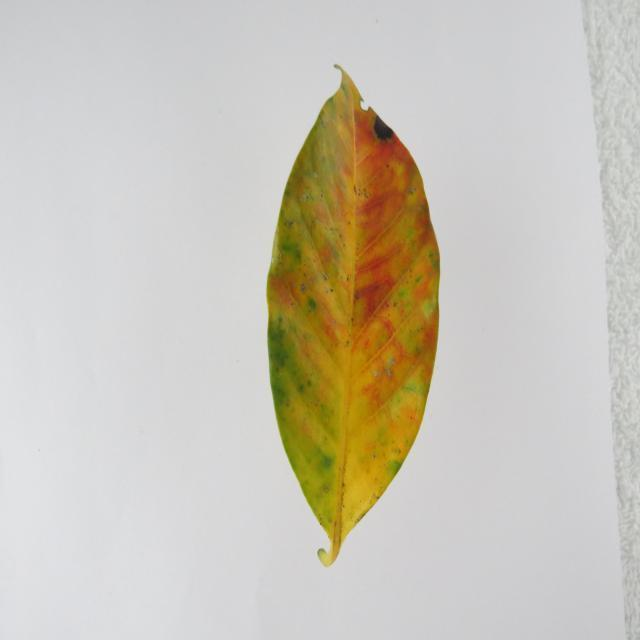DeficienciaNutricional-Fosforo: (268, 70, 440, 567)
